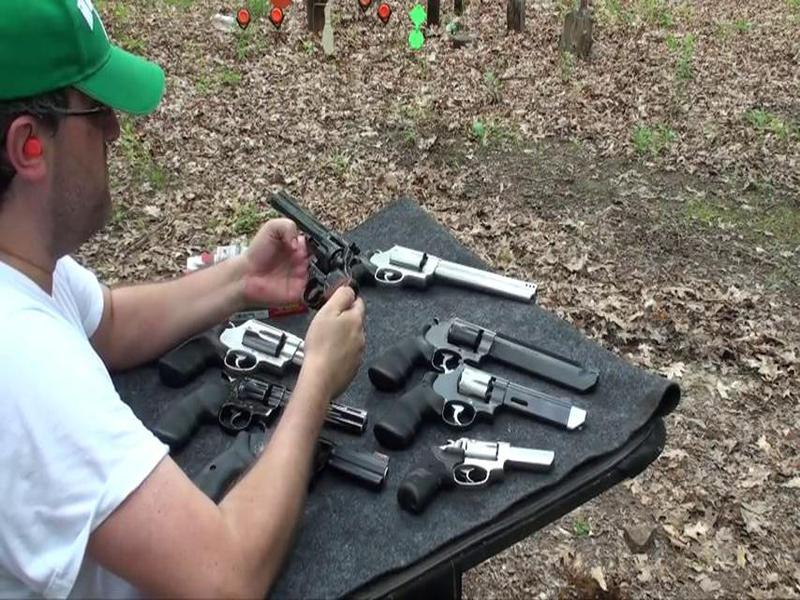Revolver: (262, 180, 380, 340)
